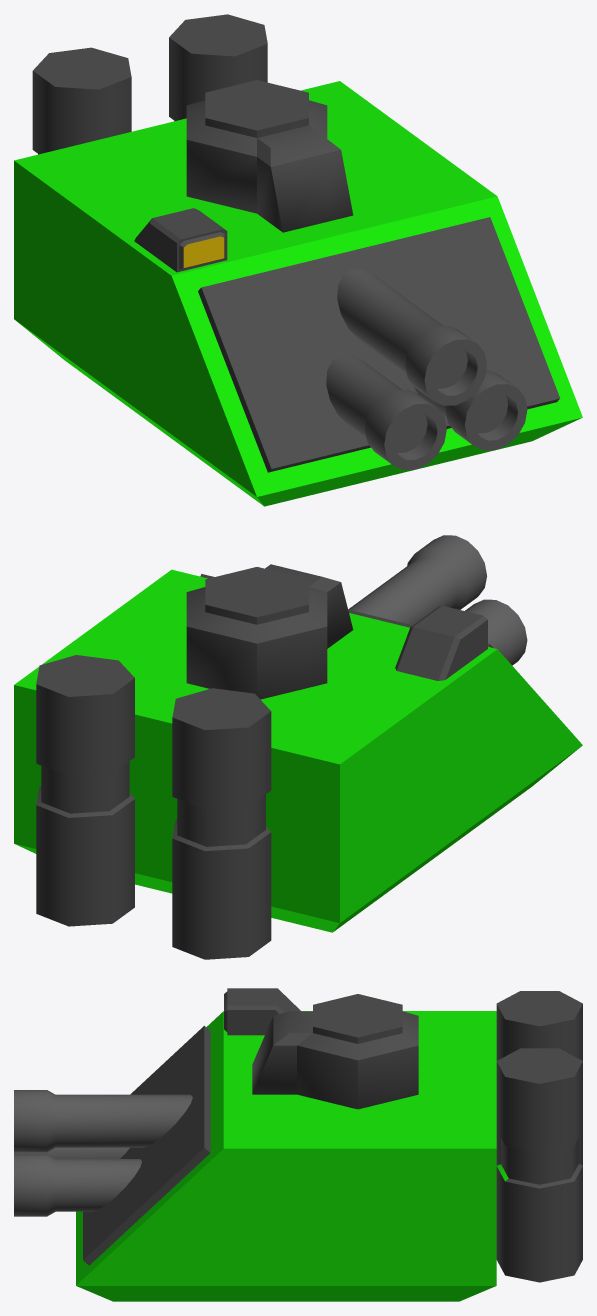
File: TankTurret2.fbx
The picture shows the model from 3 angles, top to bottom: view 1: azimuth 30°, elevation 25°; view 2: azimuth 150°, elevation 25°; view 3: azimuth 270°, elevation 25°; orthographic projection. The views are drawn at different scales.
Parts seen in each view (by area): view 1: Double_Turret, Cylinder.001; view 2: Double_Turret, Cylinder.001; view 3: Double_Turret, Cylinder.001.
Boxes of the visible parts, <box> form: Double_Turret: <box>14,14,582,506</box>; Cylinder.001: <box>326,269,527,470</box>; Double_Turret: <box>14,564,582,959</box>; Cylinder.001: <box>348,535,527,665</box>; Double_Turret: <box>76,988,582,1301</box>; Cylinder.001: <box>14,1090,192,1216</box>.
Size of the model in its own units: 158 by 276 by 130.
